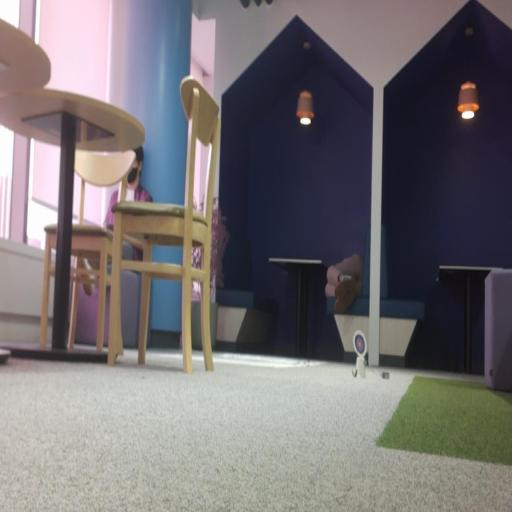target: (353, 331, 367, 358)
